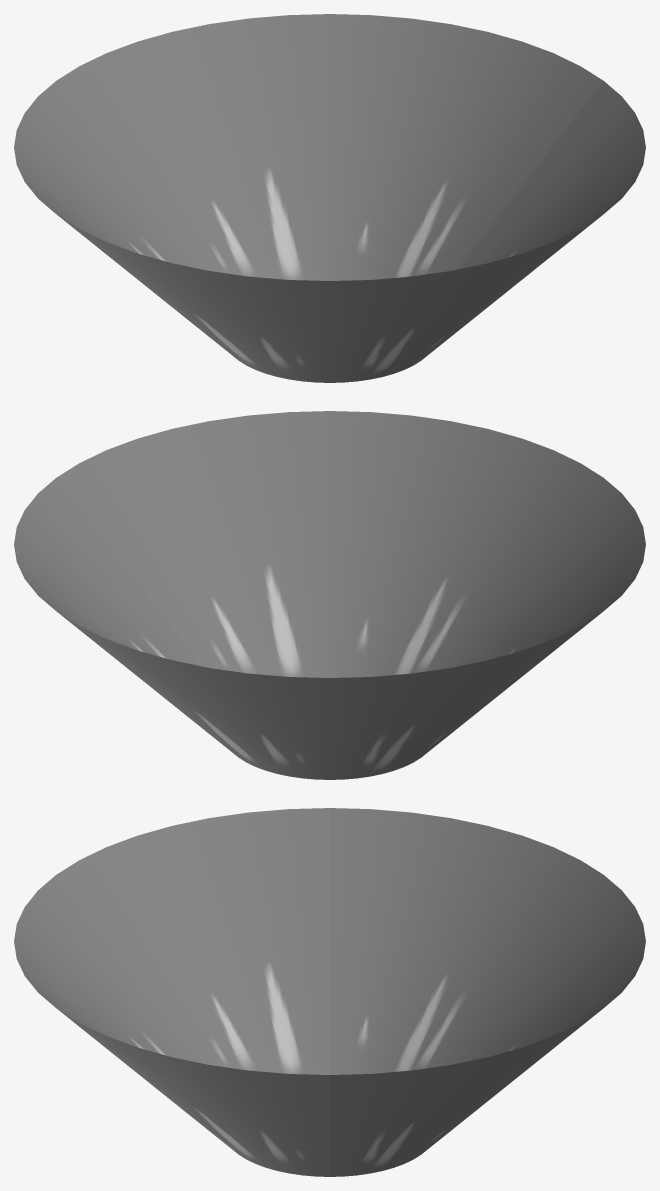
Rendered from eff_Spark07.fbx.
3 views of the same model, one above another, from view 1: azimuth 30°, elevation 25°; view 2: azimuth 150°, elevation 25°; view 3: azimuth 270°, elevation 25° (orthographic).
Visible parts, largest first — view 1: eff_Spark07_front_msh, eff_Spark07_rear_msh; view 2: eff_Spark07_rear_msh, eff_Spark07_front_msh; view 3: eff_Spark07_front_msh, eff_Spark07_rear_msh.
Part boxes in pixels (x1=…): eff_Spark07_front_msh: x1=14, y1=14, x2=603, y2=280; eff_Spark07_rear_msh: x1=57, y1=81, x2=645, y2=382; eff_Spark07_rear_msh: x1=56, y1=411, x2=645, y2=677; eff_Spark07_front_msh: x1=14, y1=478, x2=602, y2=779; eff_Spark07_front_msh: x1=330, y1=808, x2=645, y2=1176; eff_Spark07_rear_msh: x1=14, y1=808, x2=329, y2=1176.
Size of the model in its own units: 30 by 10 by 30.
